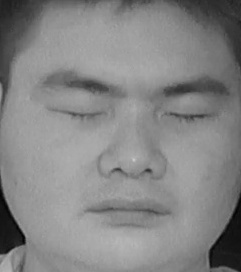blink: (166, 97, 216, 136), (54, 97, 105, 132)
mouth: (85, 189, 171, 234)
